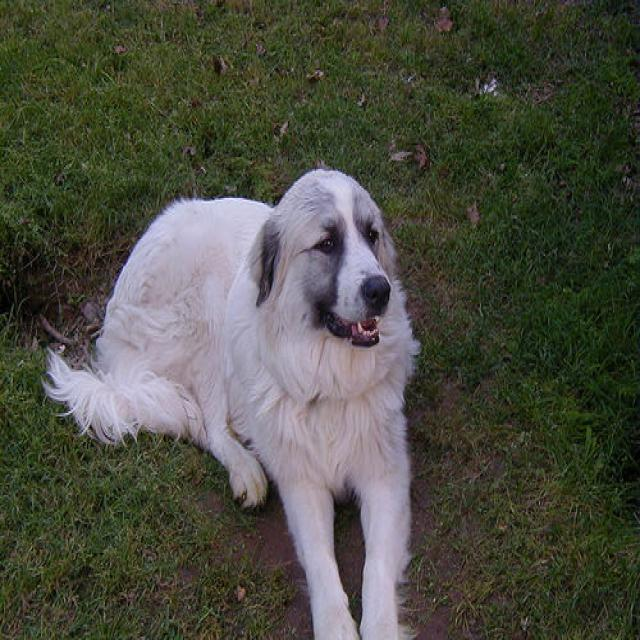dog-great_pyrenees: (44, 147, 422, 637)
